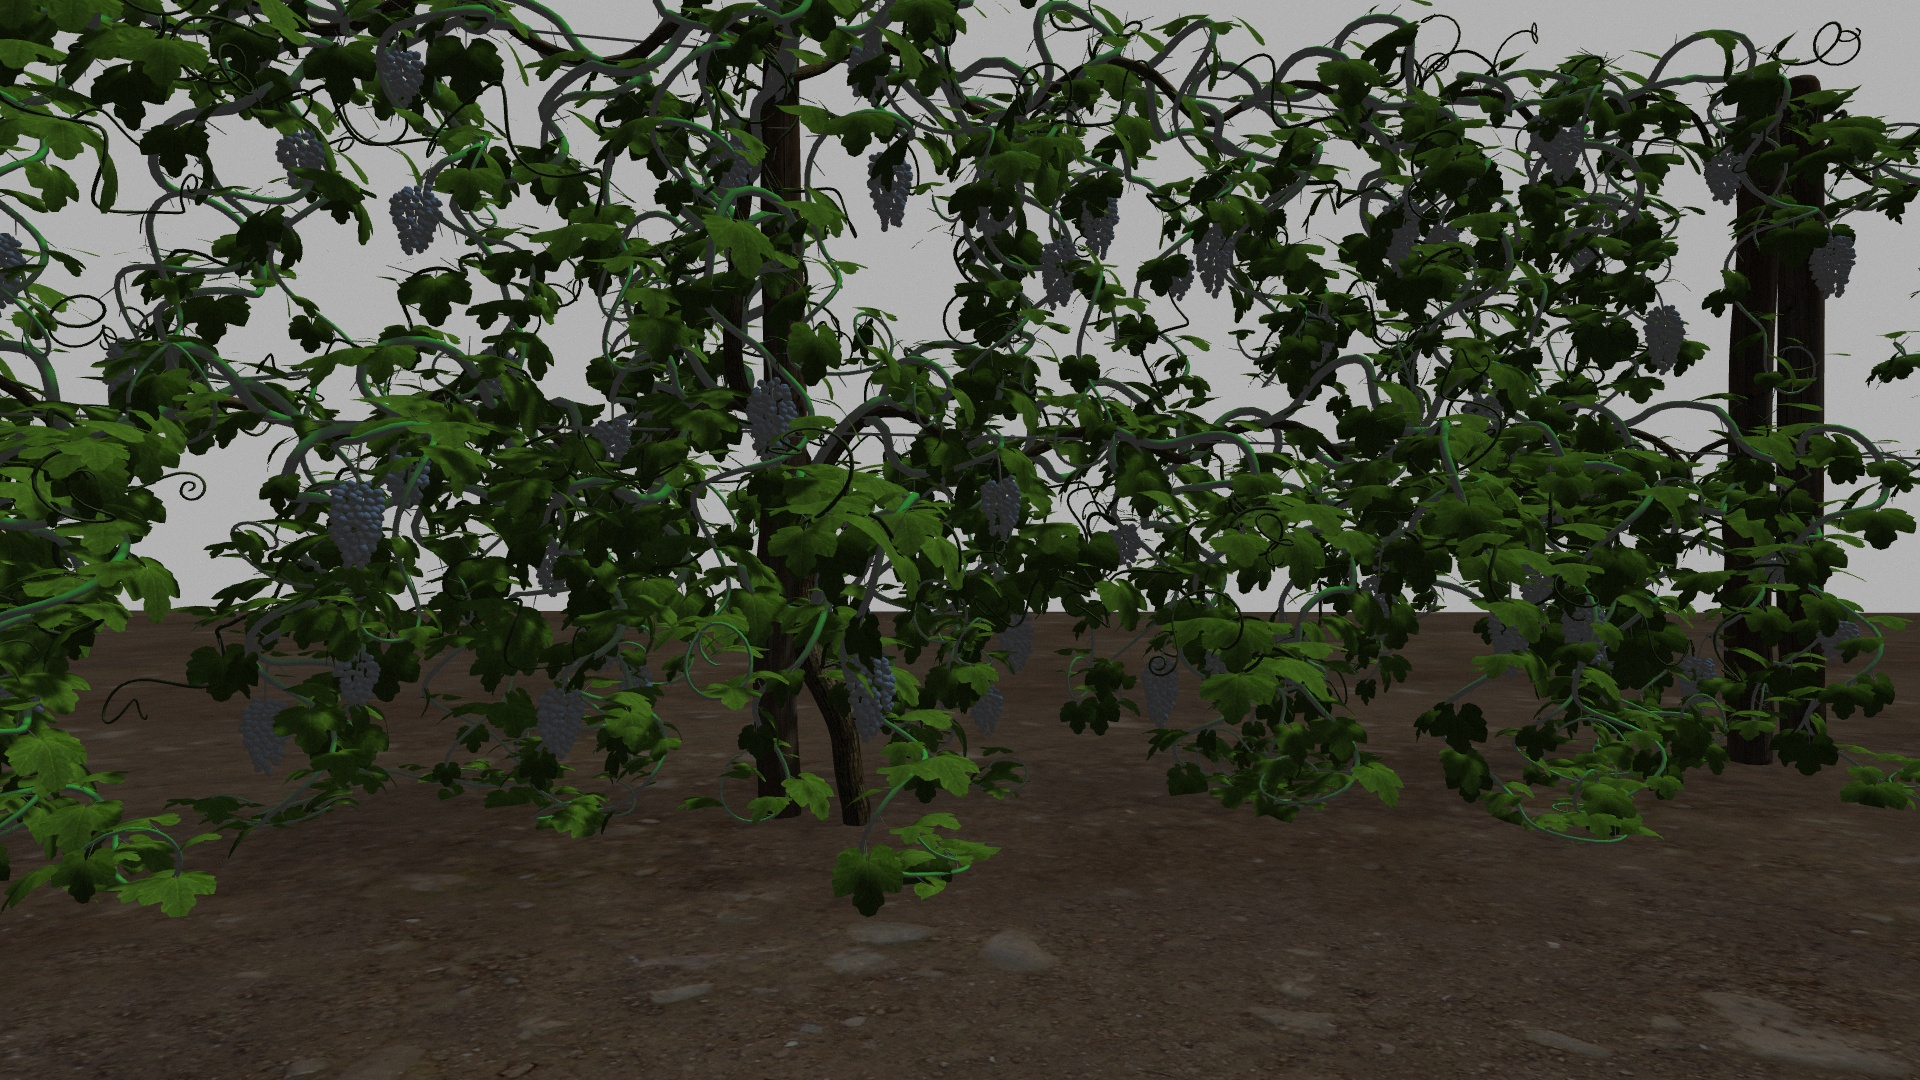grape: (326, 480, 388, 570), (840, 654, 895, 741), (748, 377, 800, 462), (534, 684, 589, 760), (866, 150, 915, 233), (237, 702, 291, 775), (389, 185, 444, 255), (1192, 225, 1237, 299), (377, 44, 426, 109), (1381, 200, 1423, 276), (1141, 655, 1182, 731), (1809, 233, 1857, 295), (332, 649, 380, 709), (997, 608, 1040, 673), (274, 132, 326, 186), (1644, 305, 1684, 375), (980, 477, 1021, 545), (1040, 236, 1076, 310), (1702, 149, 1746, 206), (1083, 194, 1120, 258), (1561, 603, 1607, 649), (1816, 618, 1859, 666), (1680, 654, 1721, 703), (392, 456, 430, 508), (592, 415, 634, 462), (1484, 615, 1528, 653), (972, 688, 1006, 737), (1527, 121, 1564, 164), (1553, 128, 1581, 183), (1108, 524, 1142, 562)
